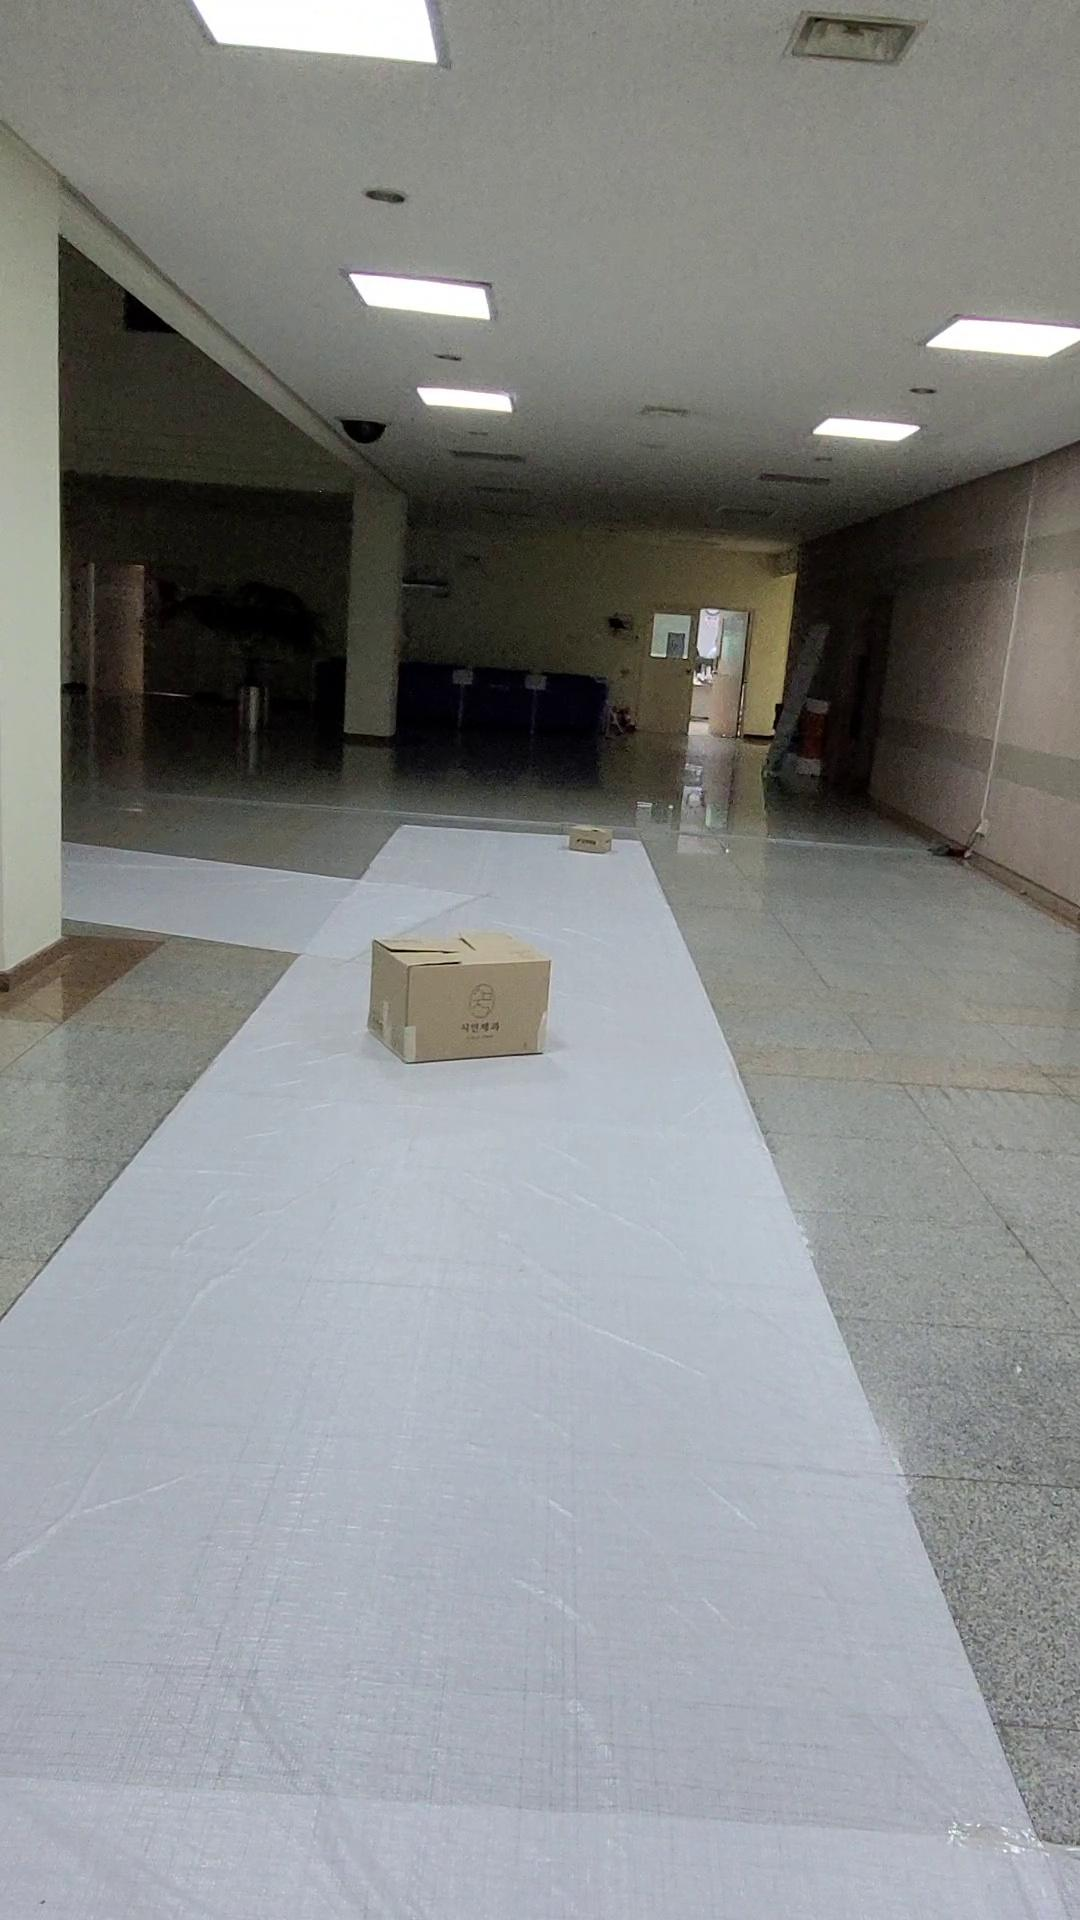Box: (342, 915, 570, 1102), (549, 804, 637, 885)
